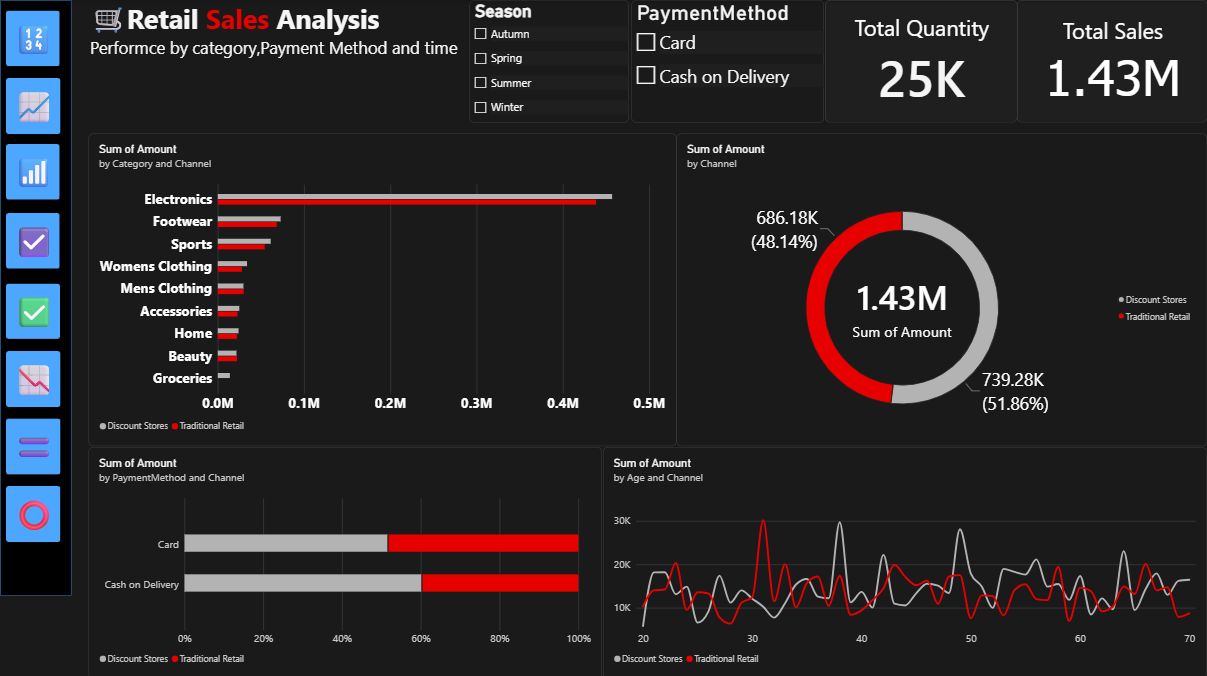

The page's visual inventory and layout, read from the dashboard file:
{"tool":"powerbi","page":{"name":"Page ١","canvas":[1920,1080],"ordinal":0},"visuals":[{"type":"textbox","box":[142.2,0,604.9,106],"z":7000},{"type":"shape","box":[0,0,113.8,947.6],"z":8000},{"type":"actionButton","box":[9.9,772,86.6,89.1],"z":8007},{"type":"donutChart","fields":{"Category":["store_sales.Channel"],"Y":["Sum(store_sales.Amount)"]},"box":[1076.3,212.8,843.7,497.3],"z":8015},{"type":"actionButton","box":[9.9,665.6,86.6,89.1],"z":8031},{"type":"cardVisual","title":"Total Sales","fields":{"Data":["store_sales.Total_Sales"]},"box":[1617.2,0,303.7,195.2],"z":8062},{"type":"actionButton","box":[9.9,559.2,86.6,89.1],"z":8125},{"type":"clusteredBarChart","fields":{"Category":["store_sales.Category"],"Series":["store_sales.Channel"],"Y":["Sum(store_sales.Amount)"]},"box":[141,212.8,935.3,497.3],"z":8250},{"type":"actionButton","box":[9.9,450.3,85.9,88.3],"z":8500},{"type":"slicer","fields":{"Values":["store_sales.Season"]},"box":[747.1,0,253.1,195.2],"z":9000},{"type":"actionButton","box":[9.9,339,85.6,88.5],"z":10000},{"type":"slicer","fields":{"Values":["store_sales.PaymentMethod"]},"box":[1005,0,306.1,195.2],"z":11000},{"type":"actionButton","box":[9.9,230.1,85.6,88.5],"z":12000},{"type":"hundredPercentStackedBarChart","fields":{"Category":["store_sales.PaymentMethod"],"Series":["store_sales.Channel"],"Y":["Sum(store_sales.Amount)"]},"box":[141,710.1,816.5,368.7],"z":13000},{"type":"actionButton","box":[9.9,123.7,86.6,89.1],"z":14000},{"type":"lineChart","fields":{"Category":["store_sales.Age"],"Series":["store_sales.Channel"],"Y":["Sum(store_sales.Amount)"]},"box":[960,710.1,960,368.7],"z":15000},{"type":"actionButton","box":[9.5,16.7,85.6,88.5],"z":16000},{"type":"cardVisual","fields":{"Data":["store_sales.Total Quantity"]},"box":[1311.1,0,306.1,195.2],"z":17000}]}

Visuals, with their boxes on the page's 1920x1080 design canvas (x1, y1, x2, y2). These are canvas units, not pixel positions in the 1207x676 screenshot, which may show the page scaled, cropped or inside an application window:
textbox: <bbox>142, 0, 747, 106</bbox>
shape: <bbox>0, 0, 114, 948</bbox>
actionButton: <bbox>10, 772, 96, 861</bbox>
donutChart - store_sales.Channel x Sum(store_sales.Amount): <bbox>1076, 213, 1920, 710</bbox>
actionButton: <bbox>10, 666, 96, 755</bbox>
"Total Sales" cardVisual: <bbox>1617, 0, 1921, 195</bbox>
actionButton: <bbox>10, 559, 96, 648</bbox>
clusteredBarChart - store_sales.Category x store_sales.Channel: <bbox>141, 213, 1076, 710</bbox>
actionButton: <bbox>10, 450, 96, 539</bbox>
slicer - store_sales.Season: <bbox>747, 0, 1000, 195</bbox>
actionButton: <bbox>10, 339, 96, 428</bbox>
slicer - store_sales.PaymentMethod: <bbox>1005, 0, 1311, 195</bbox>
actionButton: <bbox>10, 230, 96, 319</bbox>
hundredPercentStackedBarChart - store_sales.PaymentMethod x store_sales.Channel: <bbox>141, 710, 958, 1079</bbox>
actionButton: <bbox>10, 124, 96, 213</bbox>
lineChart - store_sales.Age x store_sales.Channel: <bbox>960, 710, 1920, 1079</bbox>
actionButton: <bbox>10, 17, 95, 105</bbox>
cardVisual - store_sales.Total Quantity: <bbox>1311, 0, 1617, 195</bbox>
